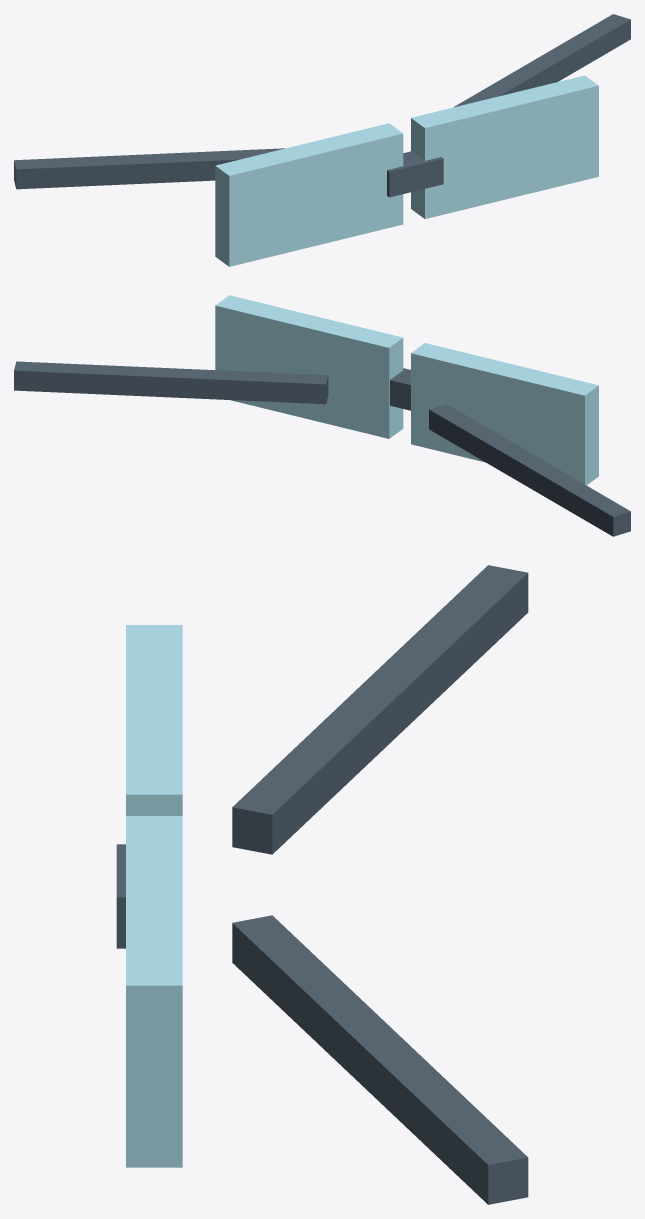
File: glasses_lod1.glb
The picture shows the model from 3 angles, top to bottom: view 1: azimuth 30°, elevation 25°; view 2: azimuth 150°, elevation 25°; view 3: azimuth 270°, elevation 25°; orthographic projection. The views are drawn at different scales.
Visible parts, largest first — view 1: lens-left, lens-right, temple-left, temple-right, bridge; view 2: lens-right, lens-left, temple-right, temple-left, bridge; view 3: temple-left, temple-right, lens-right, lens-left, bridge.
Boxes of the visible parts, x1,y1,x2,y2 form: lens-left: (215, 123, 403, 266); lens-right: (411, 75, 598, 218); temple-left: (14, 148, 284, 189); temple-right: (453, 14, 630, 107); bridge: (387, 151, 443, 197); lens-right: (215, 295, 403, 438); lens-left: (411, 343, 598, 485); temple-right: (14, 361, 328, 404); temple-left: (429, 404, 630, 536); bridge: (390, 368, 410, 410); temple-left: (232, 565, 528, 854); temple-right: (232, 915, 528, 1204); lens-right: (126, 816, 182, 1167); lens-left: (126, 625, 182, 815); bridge: (116, 844, 125, 948).
Bounding box in the file's own units: 1.13 × 0.16 × 0.3279.
